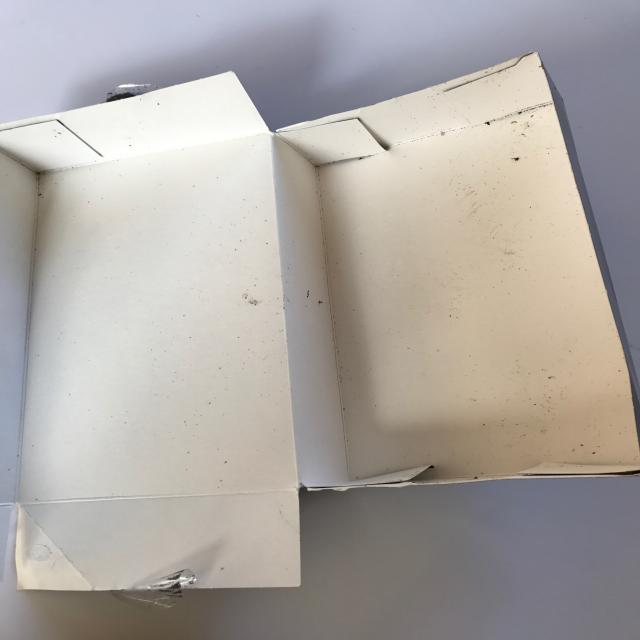Paper: (0, 46, 640, 603)
